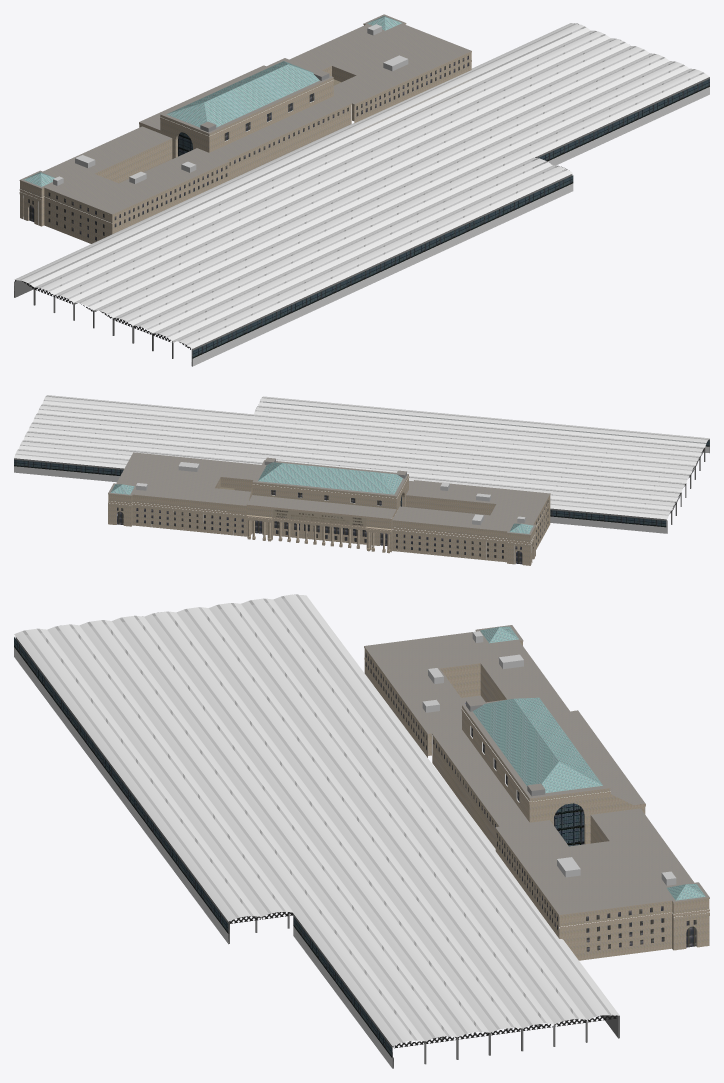
Rendered from union_station.glb.
3 renders of one model, top to bottom at view 1: azimuth 30°, elevation 25°; view 2: azimuth 150°, elevation 25°; view 3: azimuth 270°, elevation 25°, orthographic. The views are drawn at different scales.
Size of the model in its own units: 366 by 33.68 by 239.
24 materials, 16 textured.
